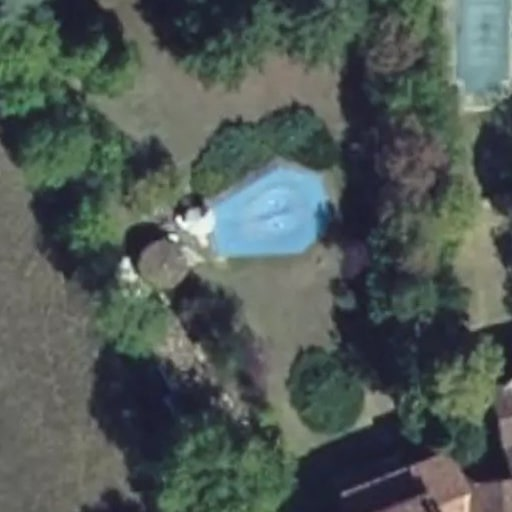pool: (213, 160, 329, 262), (453, 2, 512, 100)
